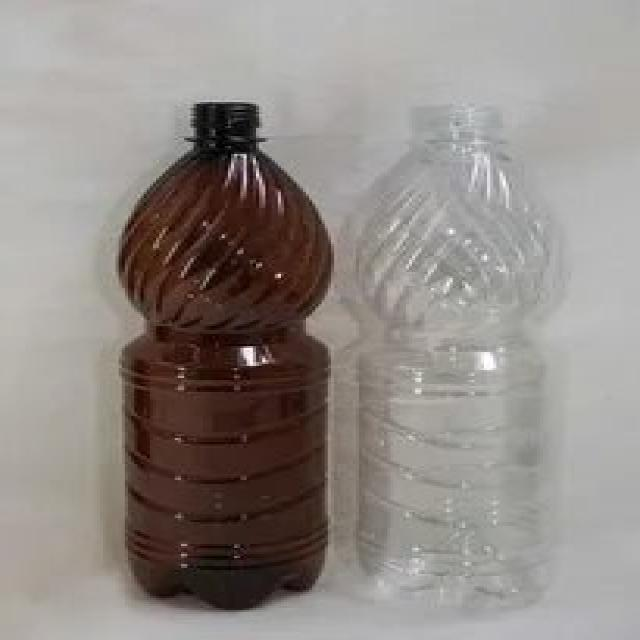brown: (115, 103, 333, 612)
